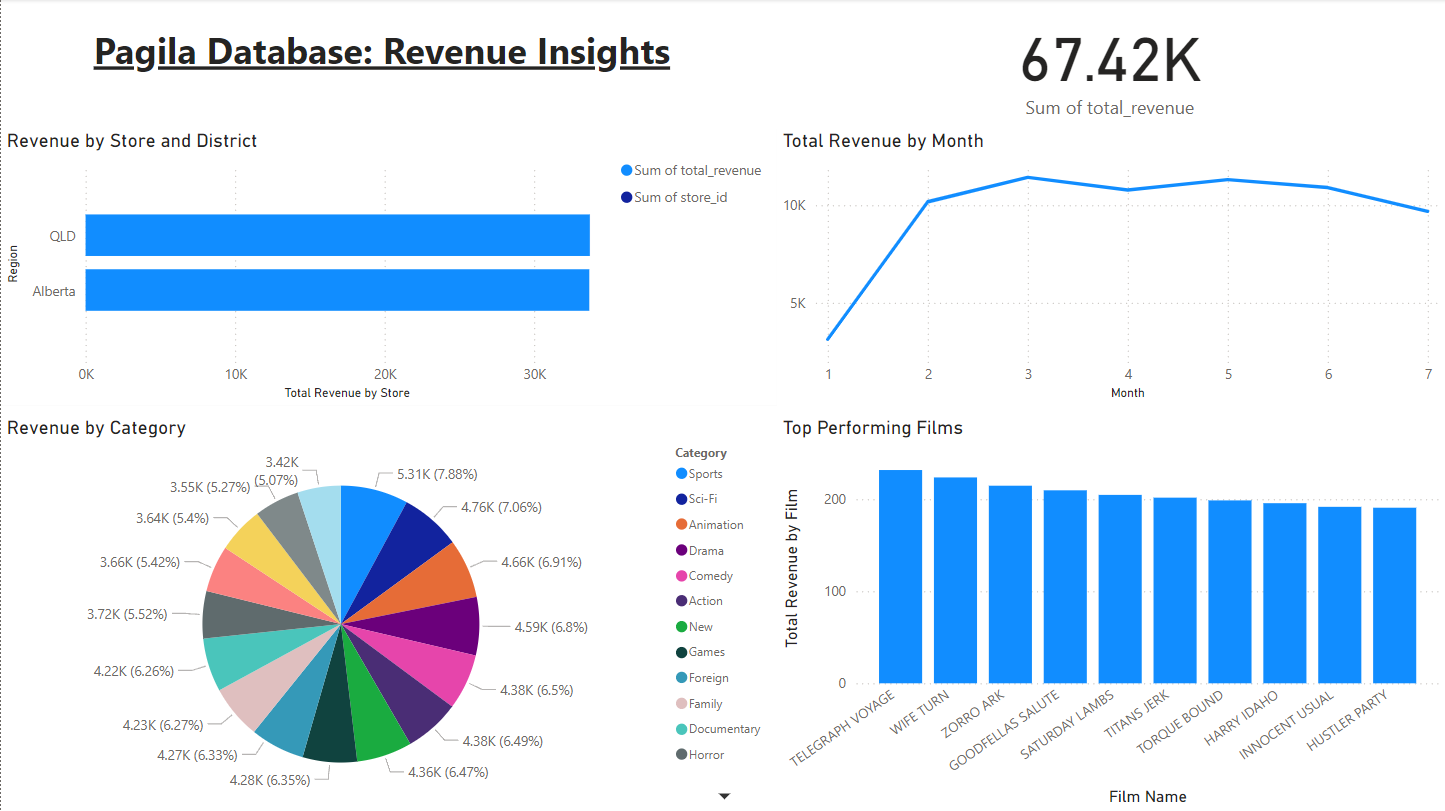

What the dashboard file says about the page in this screenshot:
{"tool":"powerbi","page":{"name":"Page 1","canvas":[1280,720],"ordinal":0},"visuals":[{"type":"lineChart","title":"Total Revenue by Month","fields":{"Y":["Sum(public revenue_by_year.total_revenue)"],"Category":["public revenue_by_year.month"]},"box":[688,115,592,245],"z":0},{"type":"barChart","title":"Total Revenue by Store and Region","fields":{"Category":["public revenue_by_store_and_district.district"],"Series":["public revenue_by_store_and_district.store_id"],"Y":["Sum(public revenue_by_store_and_district.total_revenue)"]},"box":[0,115,688,245],"z":1000},{"type":"pieChart","title":"Revenue by Category","fields":{"Category":["public revenue_by_film_category.category"],"Y":["Sum(public revenue_by_film_category.total_revenue)"]},"box":[0,370,687.8,350],"z":2000},{"type":"columnChart","title":"Top Performing Films","fields":{"Category":["public top_performing_films.film_name"],"Y":["Sum(public top_performing_films.total_revenue)"]},"box":[688,370,592,350],"z":3000},{"type":"textbox","box":[77,18,533,57],"z":4000},{"type":"barChart","title":"Revenue by Store and District","fields":{"Y":["Sum(public revenue_by_store_2.total_revenue)","Sum(public revenue_by_store_2.store_id)"],"Category":["public revenue_by_store_2.region"]},"box":[0,115,688,245],"z":5000},{"type":"card","fields":{"Values":["Sum(public revenue_by_store_2.total_revenue)"]},"box":[879,0,209,115],"z":6000}]}

Visuals, with their boxes in screenshot pixels (x1, y1, x2, y2), scaled from the page's 1280x720 canvas onto the 1445x811 screenshot:
"Total Revenue by Month" lineChart: x1=777 y1=130 x2=1444 y2=406
"Total Revenue by Store and Region" barChart: x1=0 y1=130 x2=777 y2=406
"Revenue by Category" pieChart: x1=0 y1=417 x2=776 y2=810
"Top Performing Films" columnChart: x1=777 y1=417 x2=1444 y2=810
textbox: x1=87 y1=20 x2=689 y2=84
"Revenue by Store and District" barChart: x1=0 y1=130 x2=777 y2=406
card - Sum(public revenue_by_store_2.total_revenue): x1=992 y1=0 x2=1228 y2=130
